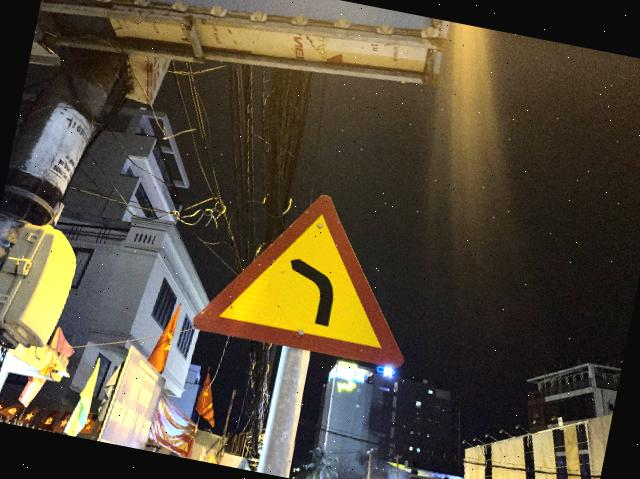cho-ngoat-nguy-hiem-ben-phai: (189, 172, 433, 372)
